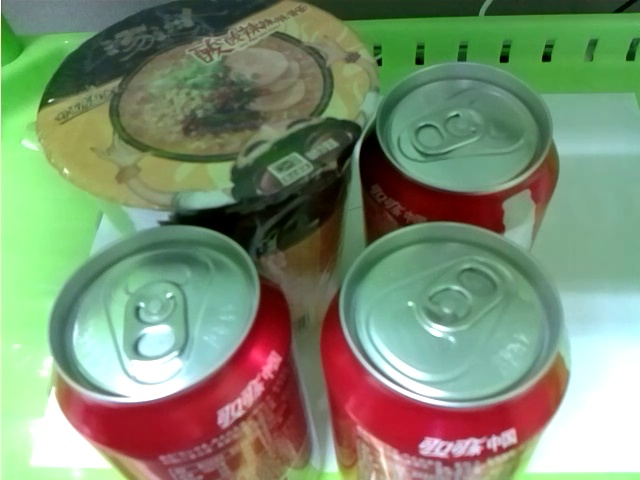cocacola: (47, 222, 314, 480), (316, 223, 572, 478), (359, 57, 561, 239)
noodles: (30, 3, 379, 269)
